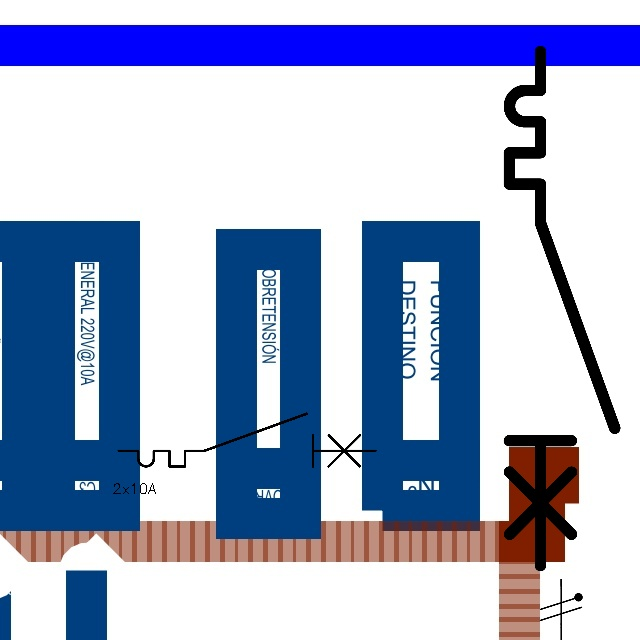interruptor_termomagnetico: (496, 38, 628, 578), (112, 407, 382, 473)
